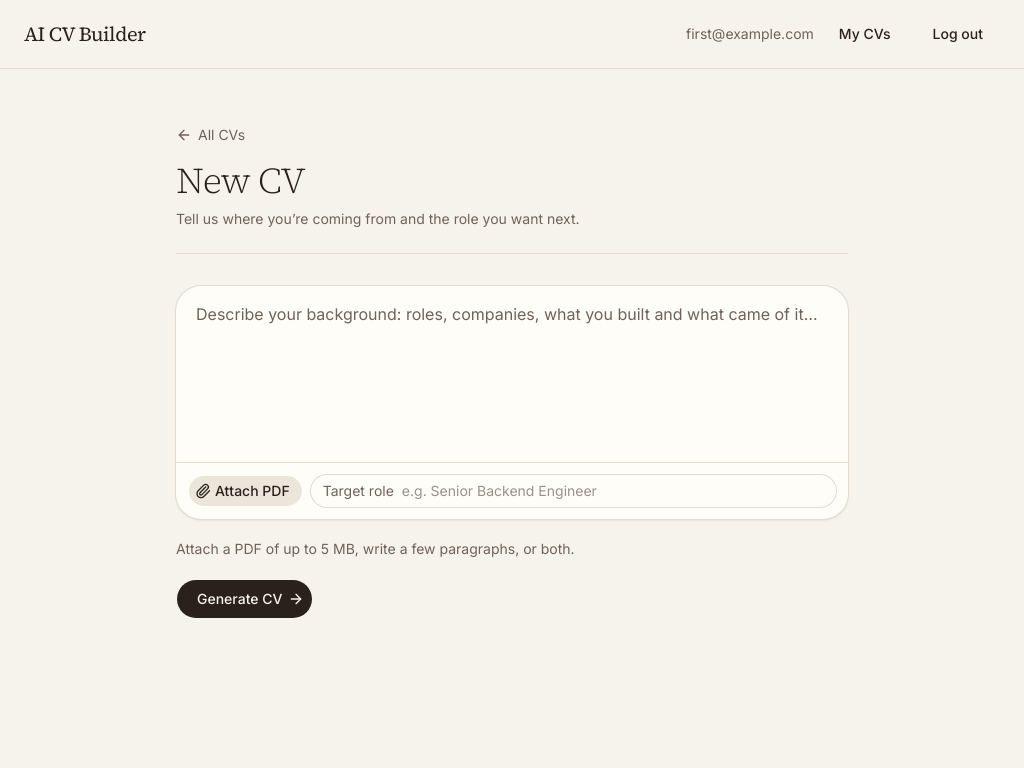
Test: Layout › does not carry the protected page over to the next login
Click the button "Log out".
click(958, 34)  # box [916,16,1000,52]
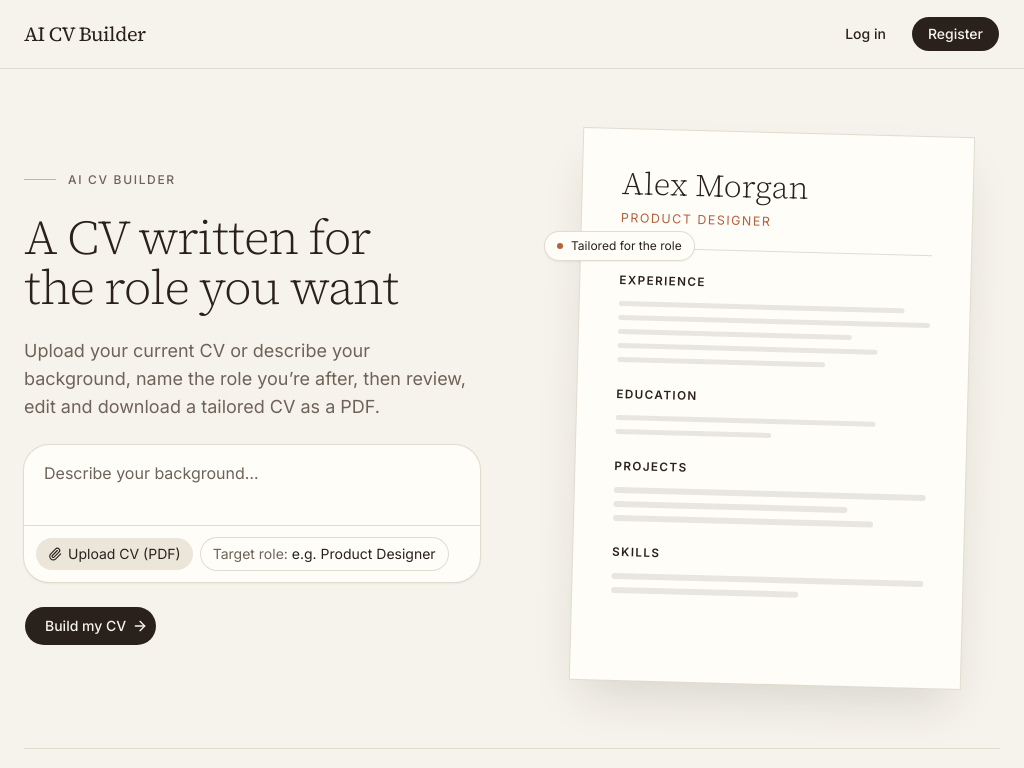
Expected: the heading "A CV written for the role you want" is shown, [24,204,398,320]
Click the link "Log in".
click(865, 34)  # box [845,25,886,42]
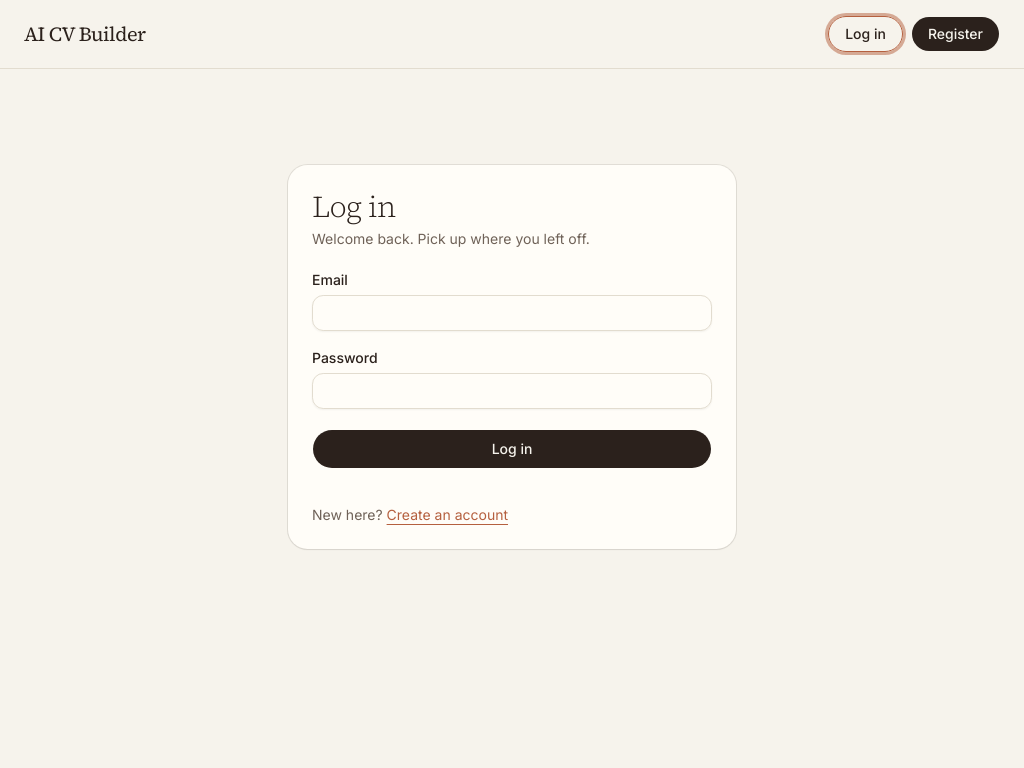
Type "second@example.com" into the field labelled "Email".
click(512, 313); type("second@example.com")  # box [312,295,712,331]
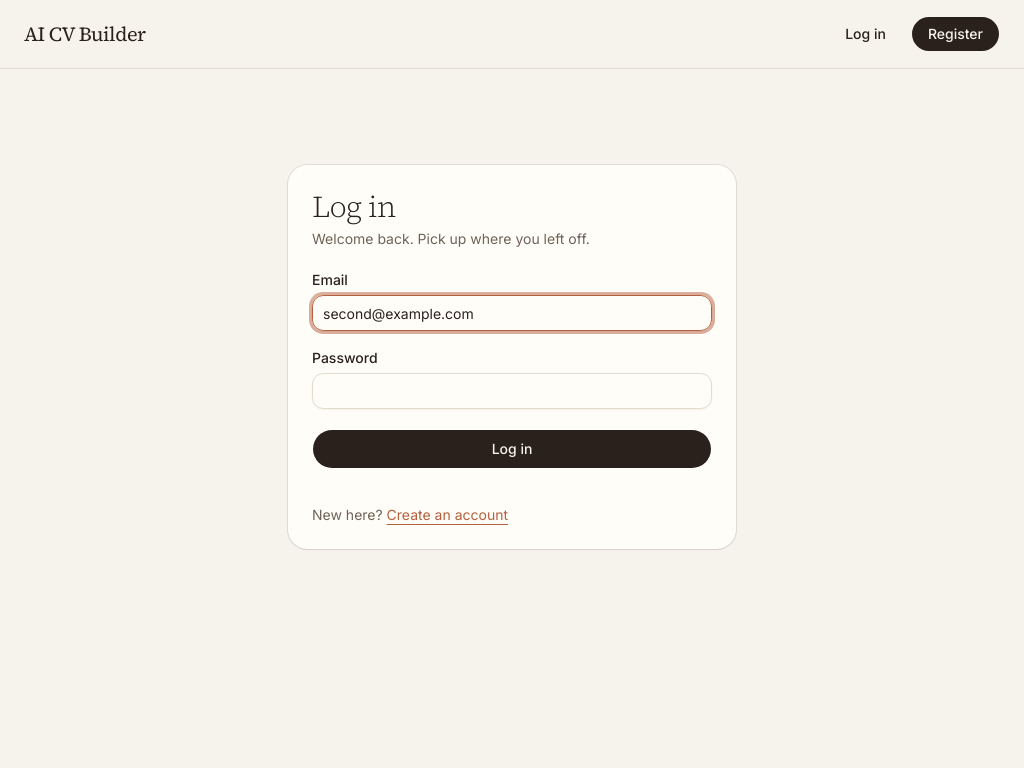
Type "secret" into the password field labelled "Password".
click(512, 391); type("secret")  # box [312,373,712,409]
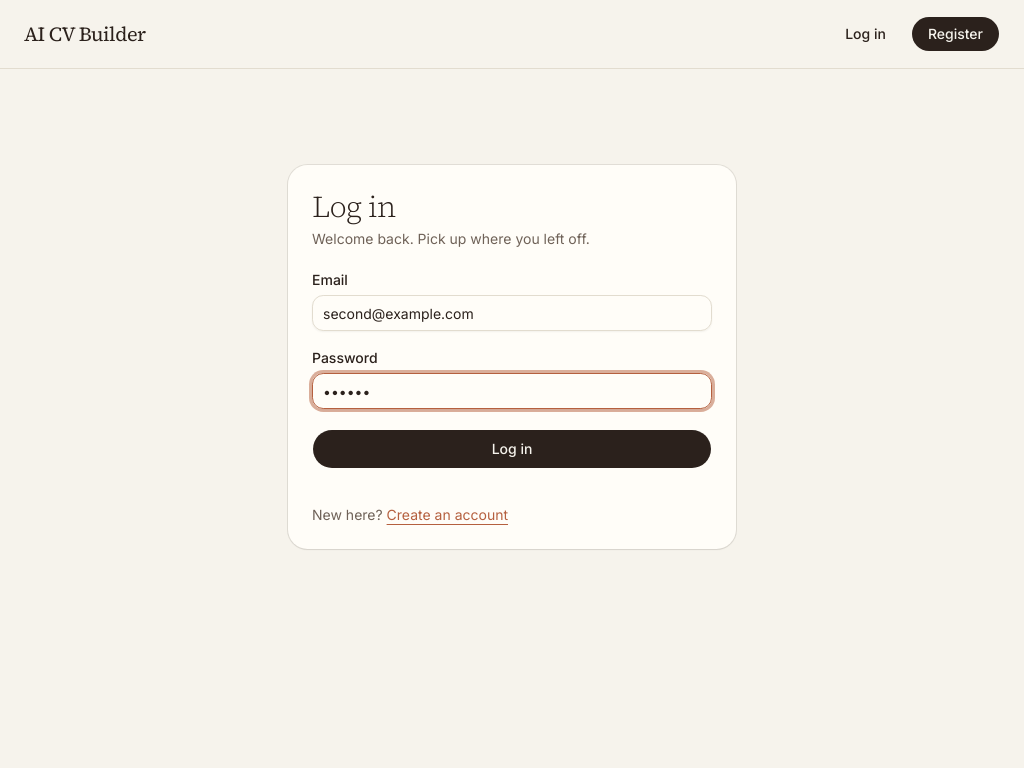
Click the button "Log in".
click(512, 449)  # box [312,429,712,469]
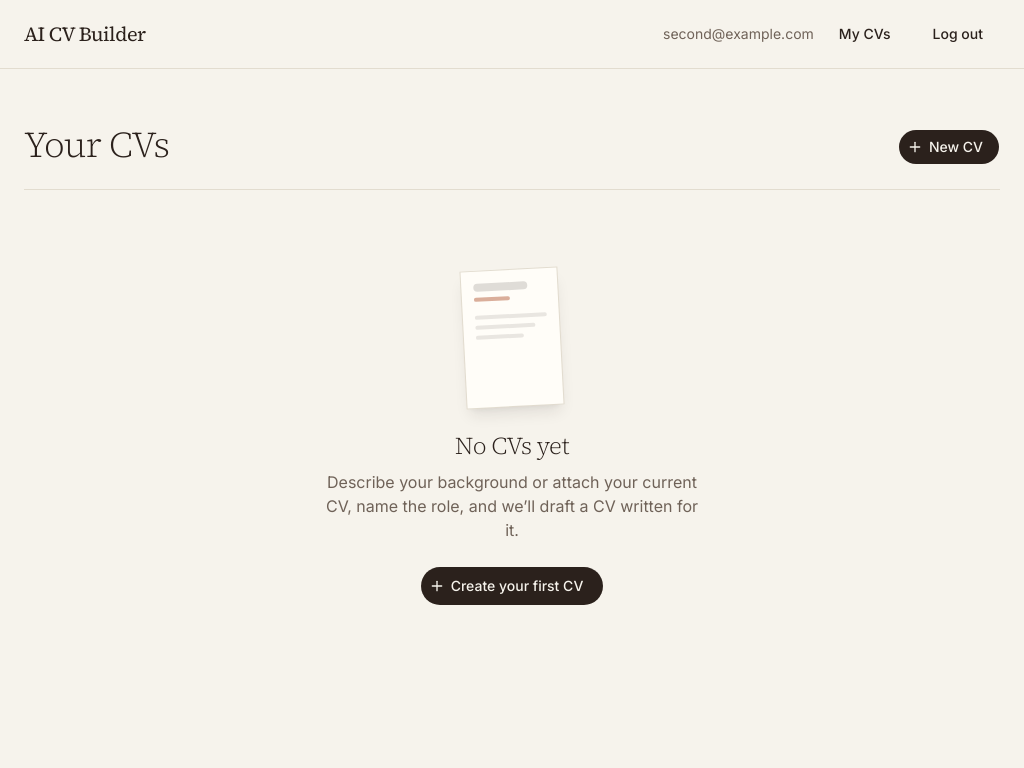
Expected: the heading "Your CVs" is shown, [24,125,169,165]
